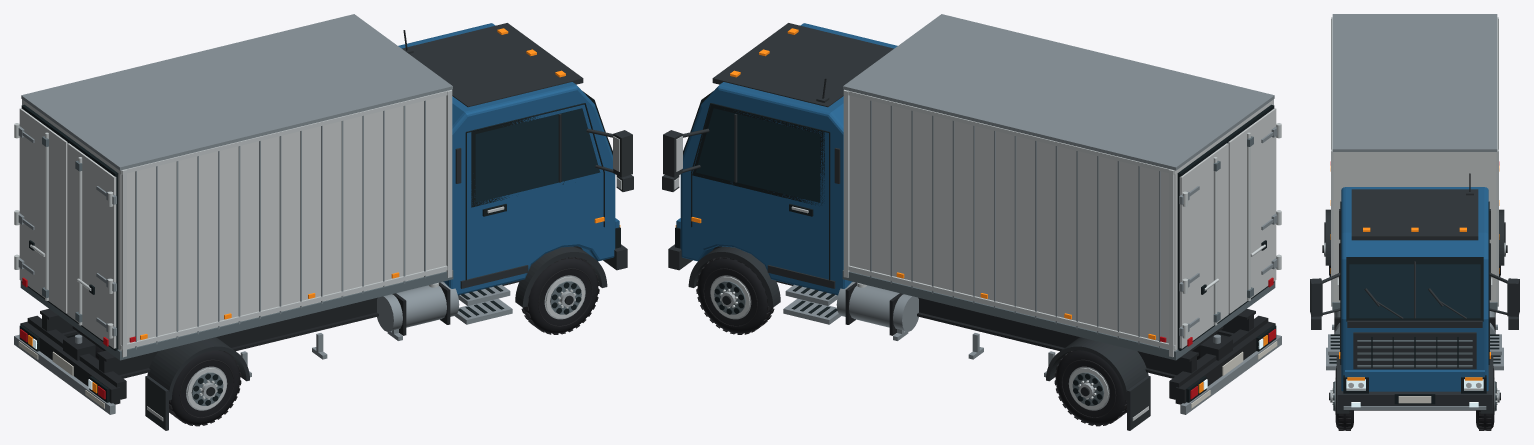
File: box-truck.glb
The picture shows the model from 3 angles, left to right: view 1: azimuth 30°, elevation 25°; view 2: azimuth 150°, elevation 25°; view 3: azimuth 270°, elevation 25°; orthographic projection. The views are drawn at different scales.
Visible parts, largest first — view 1: Cargo aluminium, Galvanised steel, Cab paint, Graphite trim, Polished metal, Black chassis steel, Smoked cab glass, Tyre rubber, Cargo understructure, Panel gaps, Tyre tread, Wheel alloy; view 2: Cargo aluminium, Galvanised steel, Cab paint, Graphite trim, Polished metal, Black chassis steel, Smoked cab glass, Tyre rubber, Panel gaps, Cargo understructure, Tyre tread, Wheel alloy; view 3: Galvanised steel, Graphite trim, Cab paint, Cargo aluminium, Smoked cab glass, Panel gaps, Cargo understructure, Polished metal, Tyre rubber, Headlamp lens, Amber lens, Tyre tread (+2 smaller).
Boxes of the visible parts, x1=… form: Cargo aluminium: x1=19, y1=95, x2=446, y2=420; Galvanised steel: x1=14, y1=14, x2=512, y2=414; Cab paint: x1=398, y1=23, x2=619, y2=295; Graphite trim: x1=66, y1=23, x2=633, y2=430; Polished metal: x1=14, y1=89, x2=621, y2=409; Black chassis steel: x1=20, y1=30, x2=588, y2=404; Smoked cab glass: x1=475, y1=101, x2=612, y2=202; Tyre rubber: x1=95, y1=257, x2=598, y2=425; Cargo understructure: x1=20, y1=136, x2=581, y2=405; Panel gaps: x1=19, y1=91, x2=620, y2=405; Tyre tread: x1=95, y1=257, x2=599, y2=426; Wheel alloy: x1=186, y1=275, x2=585, y2=410; Cargo aluminium: x1=849, y1=95, x2=1276, y2=420; Galvanised steel: x1=783, y1=14, x2=1281, y2=414; Cab paint: x1=676, y1=23, x2=897, y2=295; Graphite trim: x1=662, y1=23, x2=1229, y2=430; Polished metal: x1=674, y1=89, x2=1281, y2=409; Black chassis steel: x1=707, y1=78, x2=1275, y2=404; Smoked cab glass: x1=683, y1=101, x2=820, y2=202; Tyre rubber: x1=697, y1=257, x2=1200, y2=425; Panel gaps: x1=675, y1=91, x2=1276, y2=405; Cargo understructure: x1=714, y1=136, x2=1275, y2=405; Tyre tread: x1=696, y1=257, x2=1200, y2=426; Wheel alloy: x1=710, y1=275, x2=1109, y2=410; Galvanised steel: x1=1326, y1=14, x2=1503, y2=409; Graphite trim: x1=1310, y1=189, x2=1519, y2=413; Cab paint: x1=1341, y1=187, x2=1488, y2=391; Cargo aluminium: x1=1333, y1=152, x2=1496, y2=302; Smoked cab glass: x1=1349, y1=264, x2=1480, y2=318; Panel gaps: x1=1329, y1=201, x2=1500, y2=410; Cargo understructure: x1=1332, y1=302, x2=1497, y2=411; Polished metal: x1=1331, y1=17, x2=1498, y2=414; Tyre rubber: x1=1329, y1=265, x2=1500, y2=430; Headlamp lens: x1=1346, y1=379, x2=1483, y2=407; Amber lens: x1=1330, y1=166, x2=1499, y2=380; Tyre tread: x1=1329, y1=266, x2=1500, y2=430.
Bounding box in the file's own units: 7.61 × 3.87 × 3.17.
